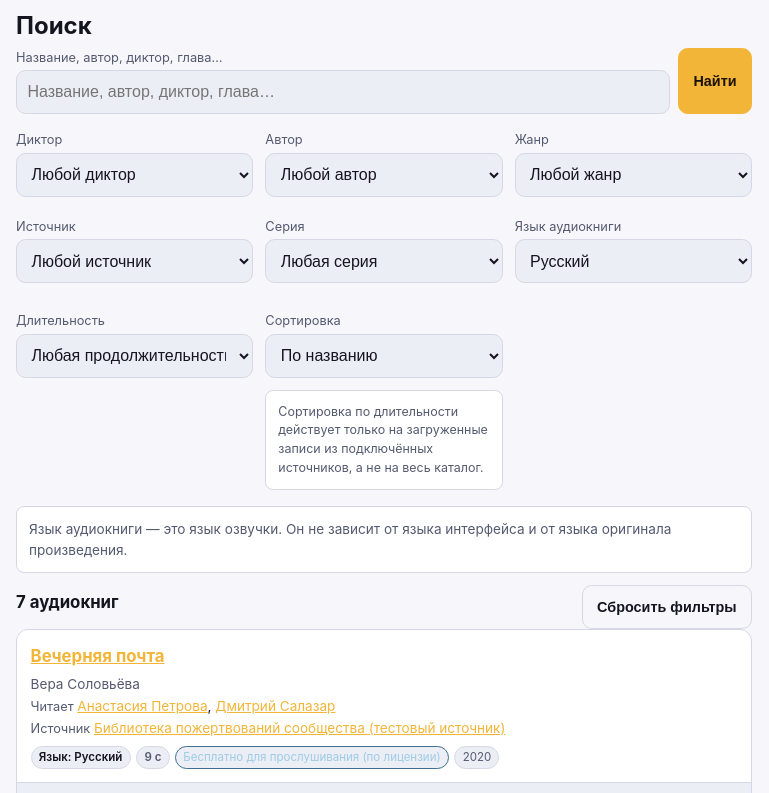
duration filter › exposes custom From/To inputs in minutes
Select "Свой диапазон" in the dropdown labelled "Длительность". click: (135, 356)
box: [16, 334, 253, 378]
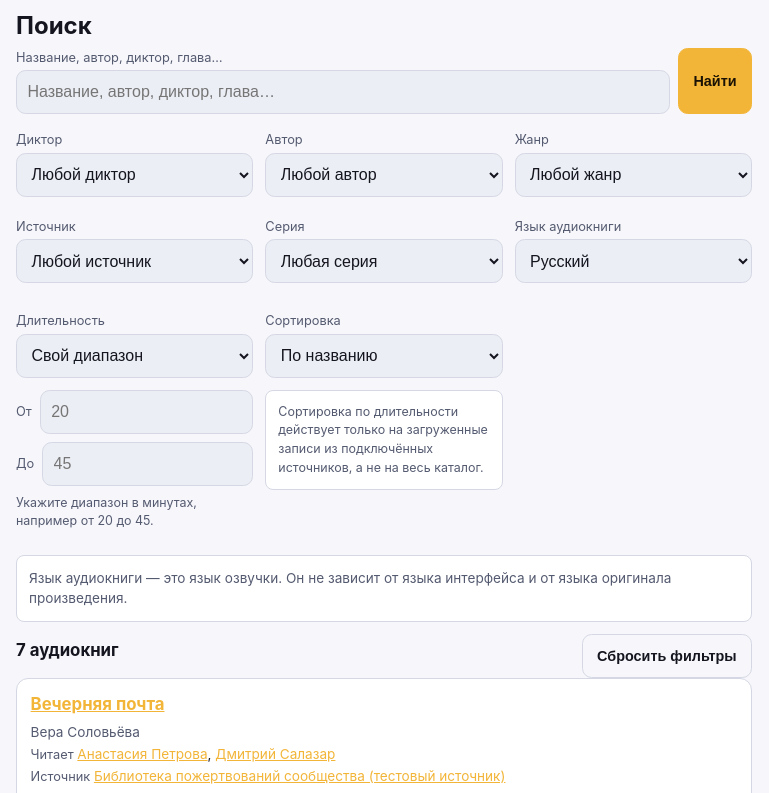
Now the number field labelled "От" is shown, box [40, 390, 253, 434]
Now the number field labelled "До" is shown, box [42, 442, 253, 486]
Now the text "Укажите диапазон в минутах, например от 20 до 45." is shown, box [16, 494, 197, 528]
